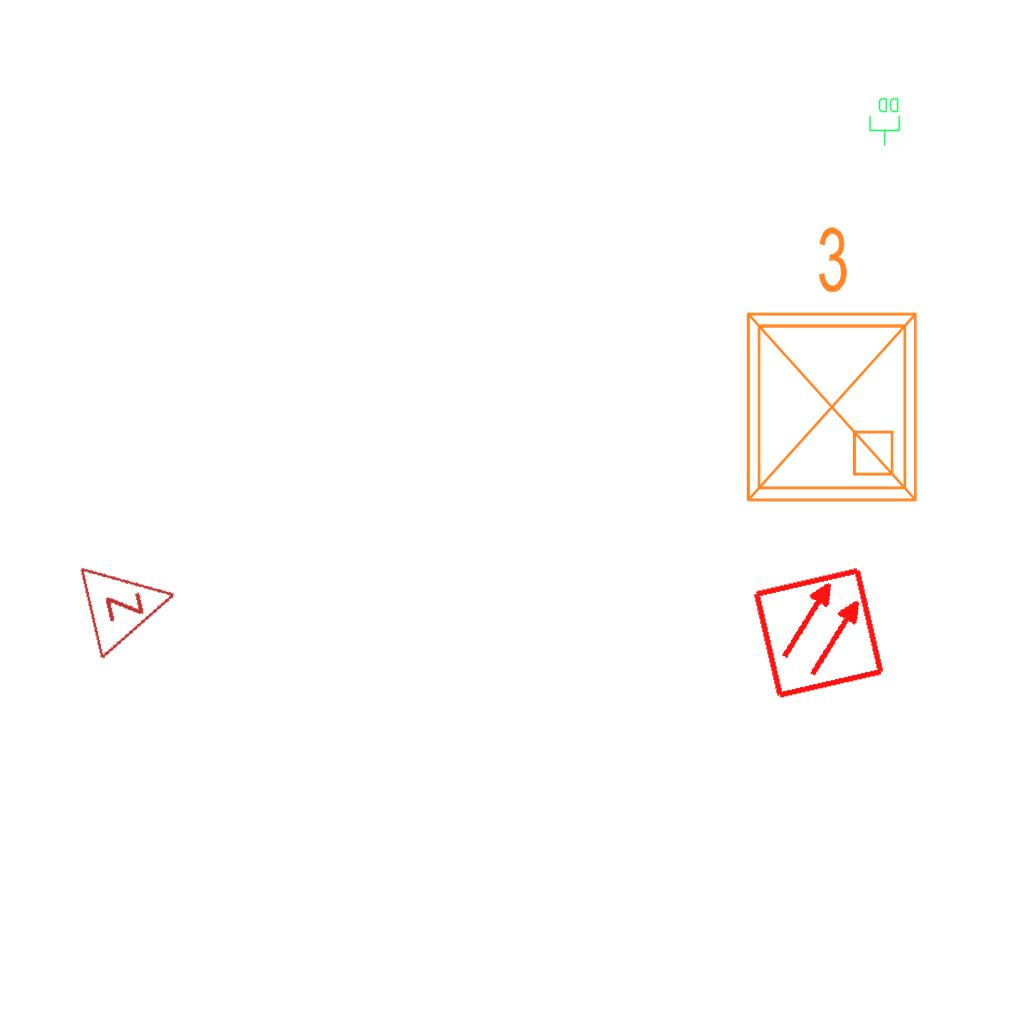Datenanschluss_zweifach: (868, 96, 902, 147)
Einbaudownlights_LED_Konferenzraeume: (724, 216, 932, 516)
RMO_Rauchmelder_optischer: (750, 564, 887, 701)
Zimmersignalleuchte: (72, 544, 192, 662)
